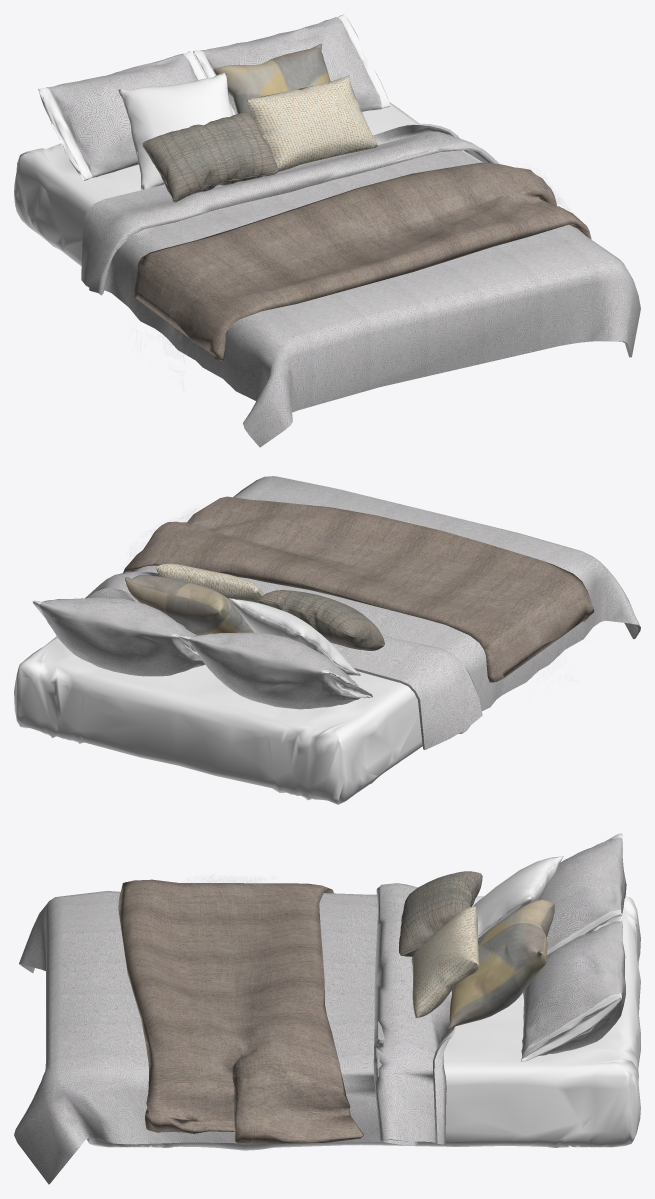
File: 3FO4ED8AJCQ0.glb
The picture shows the model from 3 angles, top to bottom: view 1: azimuth 30°, elevation 25°; view 2: azimuth 150°, elevation 25°; view 3: azimuth 270°, elevation 25°; orthographic projection. The views are drawn at different scales.
Parts seen in each view (by area): view 1: prefix_cover_StaticMeshComponent0, prefix_그린_StaticMeshComponent0, prefix_green-pillow_StaticMeshComponent0, prefix_mattress_StaticMeshComponent0, prefix_50x50_green-_cushion_StaticMeshComponent0, prefix_green-stripe_StaticMeshComponent0, prefix_green-pillow001_StaticMeshComponent0, prefix_vitra_cushion001_StaticMeshComponent0, prefix_쿠션_StaticMeshComponent0; view 2: prefix_그린_StaticMeshComponent0, prefix_mattress_StaticMeshComponent0, prefix_cover_StaticMeshComponent0, prefix_green-pillow001_StaticMeshComponent0, prefix_green-pillow_StaticMeshComponent0, prefix_쿠션_StaticMeshComponent0, prefix_green-stripe_StaticMeshComponent0, prefix_vitra_cushion001_StaticMeshComponent0, prefix_50x50_green-_cushion_StaticMeshComponent0; view 3: prefix_cover_StaticMeshComponent0, prefix_그린_StaticMeshComponent0, prefix_mattress_StaticMeshComponent0, prefix_green-pillow001_StaticMeshComponent0, prefix_쿠션_StaticMeshComponent0, prefix_green-pillow_StaticMeshComponent0, prefix_50x50_green-_cushion_StaticMeshComponent0, prefix_green-stripe_StaticMeshComponent0, prefix_vitra_cushion001_StaticMeshComponent0.
Part boxes in pixels (x1=…): prefix_cover_StaticMeshComponent0: x1=81, y1=123, x2=640, y2=447; prefix_그린_StaticMeshComponent0: x1=132, y1=162, x2=591, y2=361; prefix_green-pillow_StaticMeshComponent0: x1=38, y1=51, x2=205, y2=180; prefix_mattress_StaticMeshComponent0: x1=14, y1=102, x2=418, y2=266; prefix_50x50_green-_cushion_StaticMeshComponent0: x1=246, y1=75, x2=377, y2=171; prefix_green-stripe_StaticMeshComponent0: x1=142, y1=112, x2=278, y2=202; prefix_green-pillow001_StaticMeshComponent0: x1=193, y1=14, x2=389, y2=115; prefix_vitra_cushion001_StaticMeshComponent0: x1=118, y1=72, x2=232, y2=189; prefix_쿠션_StaticMeshComponent0: x1=213, y1=43, x2=330, y2=115; prefix_그린_StaticMeshComponent0: x1=123, y1=496, x2=594, y2=682; prefix_mattress_StaticMeshComponent0: x1=14, y1=636, x2=422, y2=804; prefix_cover_StaticMeshComponent0: x1=85, y1=476, x2=640, y2=749; prefix_green-pillow001_StaticMeshComponent0: x1=33, y1=597, x2=204, y2=676; prefix_green-pillow_StaticMeshComponent0: x1=182, y1=632, x2=372, y2=709; prefix_쿠션_StaticMeshComponent0: x1=125, y1=575, x2=253, y2=635; prefix_green-stripe_StaticMeshComponent0: x1=258, y1=590, x2=384, y2=650; prefix_vitra_cushion001_StaticMeshComponent0: x1=228, y1=598, x2=360, y2=675; prefix_50x50_green-_cushion_StaticMeshComponent0: x1=156, y1=563, x2=264, y2=602; prefix_cover_StaticMeshComponent0: x1=14, y1=883, x2=455, y2=1184; prefix_그린_StaticMeshComponent0: x1=118, y1=879, x2=363, y2=1143; prefix_mattress_StaticMeshComponent0: x1=86, y1=896, x2=640, y2=1150; prefix_green-pillow001_StaticMeshComponent0: x1=521, y1=916, x2=625, y2=1061; prefix_쿠션_StaticMeshComponent0: x1=448, y1=900, x2=554, y2=1028; prefix_green-pillow_StaticMeshComponent0: x1=539, y1=833, x2=626, y2=955; prefix_50x50_green-_cushion_StaticMeshComponent0: x1=411, y1=906, x2=479, y2=1017; prefix_green-stripe_StaticMeshComponent0: x1=399, y1=871, x2=482, y2=956; prefix_vitra_cushion001_StaticMeshComponent0: x1=473, y1=856, x2=563, y2=937.
Bounding box in the file's own units: 1.99 × 0.7415 × 2.24.
9 materials, 9 textured.
